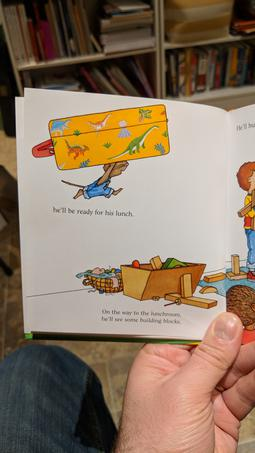text block: (94, 306, 191, 327), (47, 201, 139, 221), (232, 119, 255, 131)
